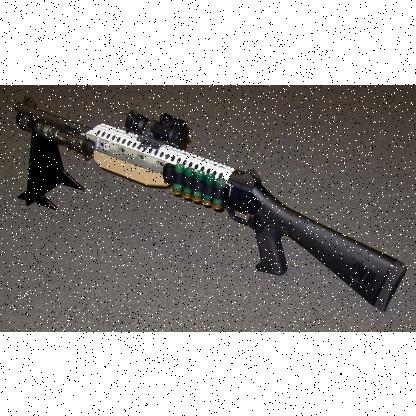gun: (16, 99, 404, 312)
